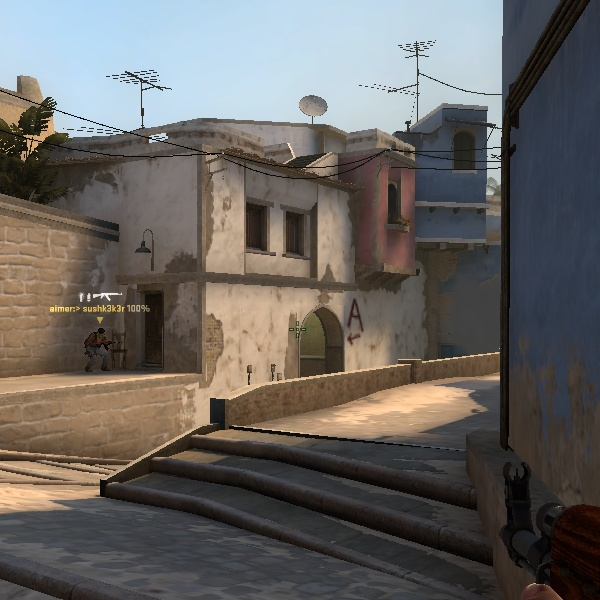t_body: (81, 321, 113, 372)
